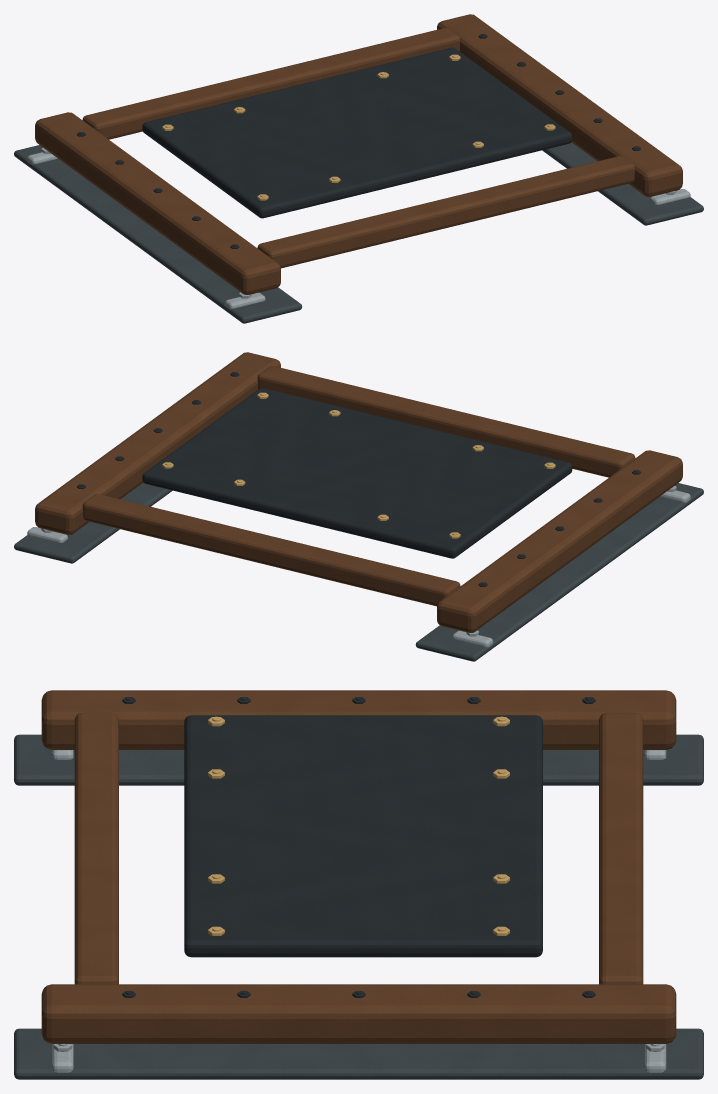
The model's file is FoundationDetails.glb.
The picture shows the model from 3 angles, top to bottom: view 1: azimuth 30°, elevation 25°; view 2: azimuth 150°, elevation 25°; view 3: azimuth 270°, elevation 25°; orthographic projection. The views are drawn at different scales.
Parts seen in each view (by area): view 1: FoundationDetails_Oiled_walnut_hardwood, FoundationDetails_Blackened_steel, FoundationDetails_Forged_charcoal_iron, FoundationDetails_Machined_satin_steel, FoundationDetails_Aged_machined_brass; view 2: FoundationDetails_Oiled_walnut_hardwood, FoundationDetails_Blackened_steel, FoundationDetails_Forged_charcoal_iron, FoundationDetails_Machined_satin_steel, FoundationDetails_Aged_machined_brass; view 3: FoundationDetails_Blackened_steel, FoundationDetails_Oiled_walnut_hardwood, FoundationDetails_Forged_charcoal_iron, FoundationDetails_Machined_satin_steel, FoundationDetails_Aged_machined_brass.
Part boxes in pixels (x1,y1,x2,y2): FoundationDetails_Oiled_walnut_hardwood: (35, 14, 682, 294); FoundationDetails_Blackened_steel: (77, 34, 640, 248); FoundationDetails_Forged_charcoal_iron: (14, 142, 703, 323); FoundationDetails_Machined_satin_steel: (27, 148, 690, 309); FoundationDetails_Aged_machined_brass: (162, 54, 555, 200); FoundationDetails_Oiled_walnut_hardwood: (35, 352, 682, 632); FoundationDetails_Blackened_steel: (77, 372, 640, 586); FoundationDetails_Forged_charcoal_iron: (14, 482, 703, 661); FoundationDetails_Machined_satin_steel: (27, 486, 690, 647); FoundationDetails_Aged_machined_brass: (162, 392, 555, 538); FoundationDetails_Blackened_steel: (122, 697, 595, 997); FoundationDetails_Oiled_walnut_hardwood: (41, 690, 676, 1043); FoundationDetails_Forged_charcoal_iron: (14, 734, 703, 1079); FoundationDetails_Machined_satin_steel: (51, 750, 666, 1072); FoundationDetails_Aged_machined_brass: (208, 716, 509, 935).
Size of the model in its own units: 8.7 by 1.07 by 7.5.
5 materials, 5 textured.
